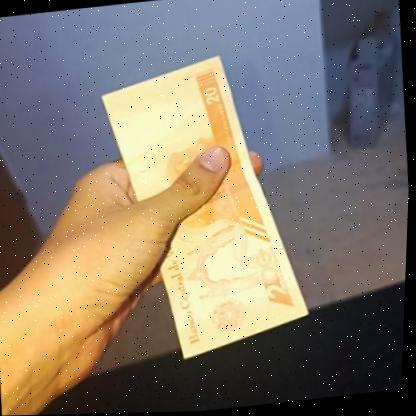twenty-back-vef: (91, 47, 322, 371)
